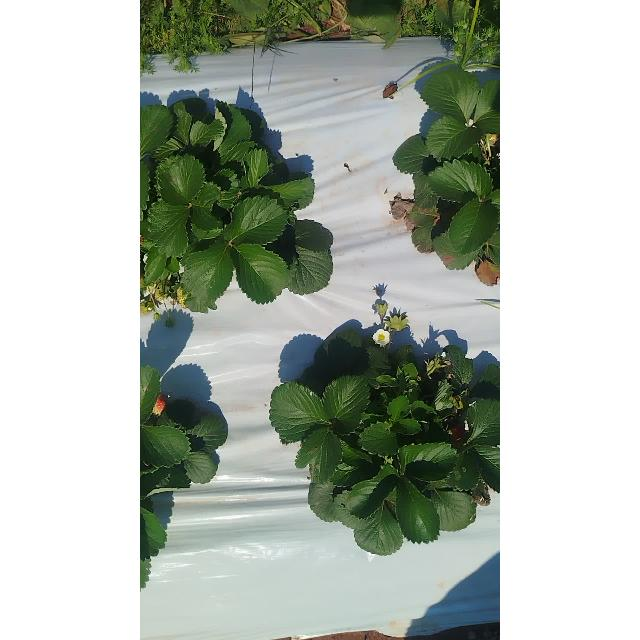no-maduro: (176, 286, 187, 304), (155, 287, 167, 301), (140, 302, 148, 314)
semi-maduro: (152, 394, 166, 416)
